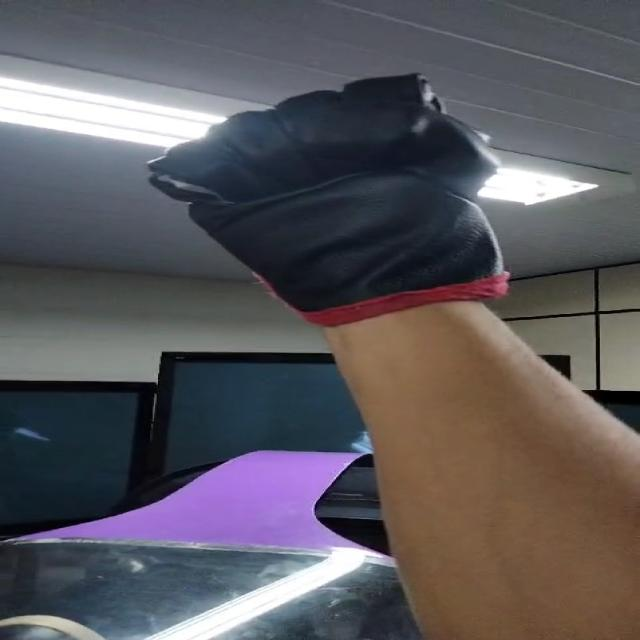Gloves: (147, 70, 512, 328)
